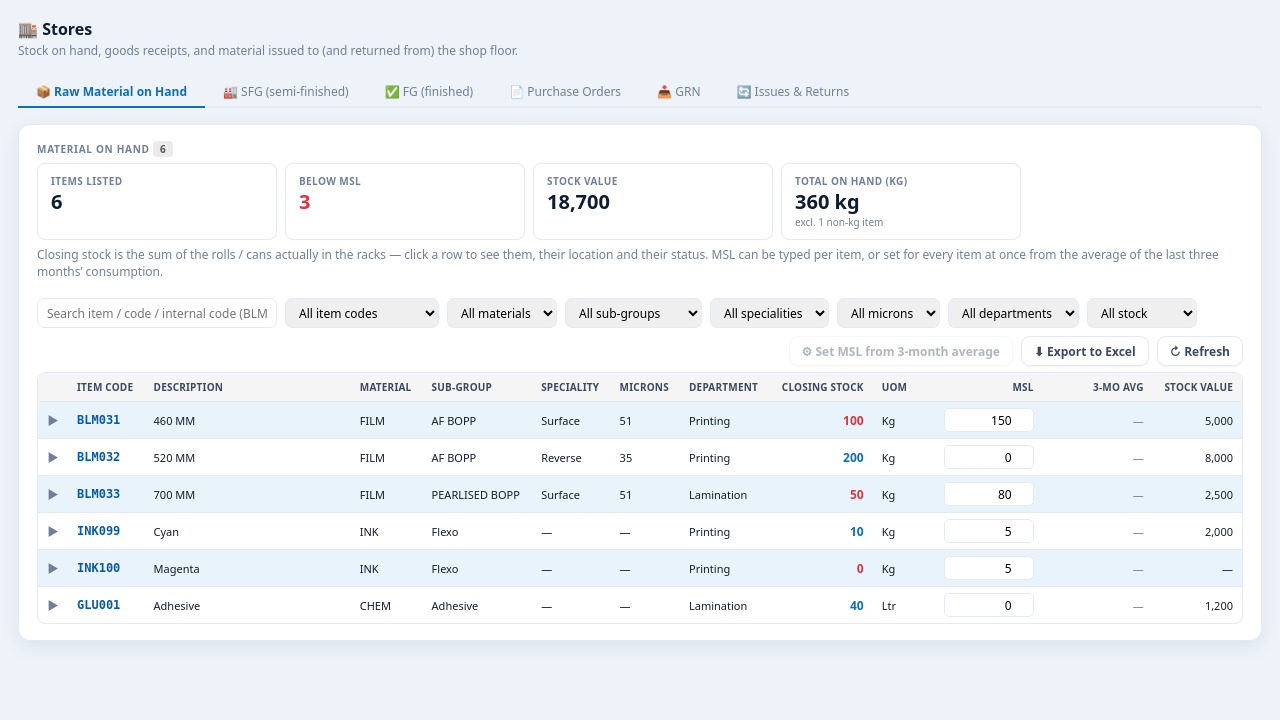
Material on Hand — filters, search and the figures above them › counts only the chosen disposition in the value, and drops items without it
Select "Rejected" in the dropdown named "Filter by status": (1142, 313) 1087,298 -> 1197,328
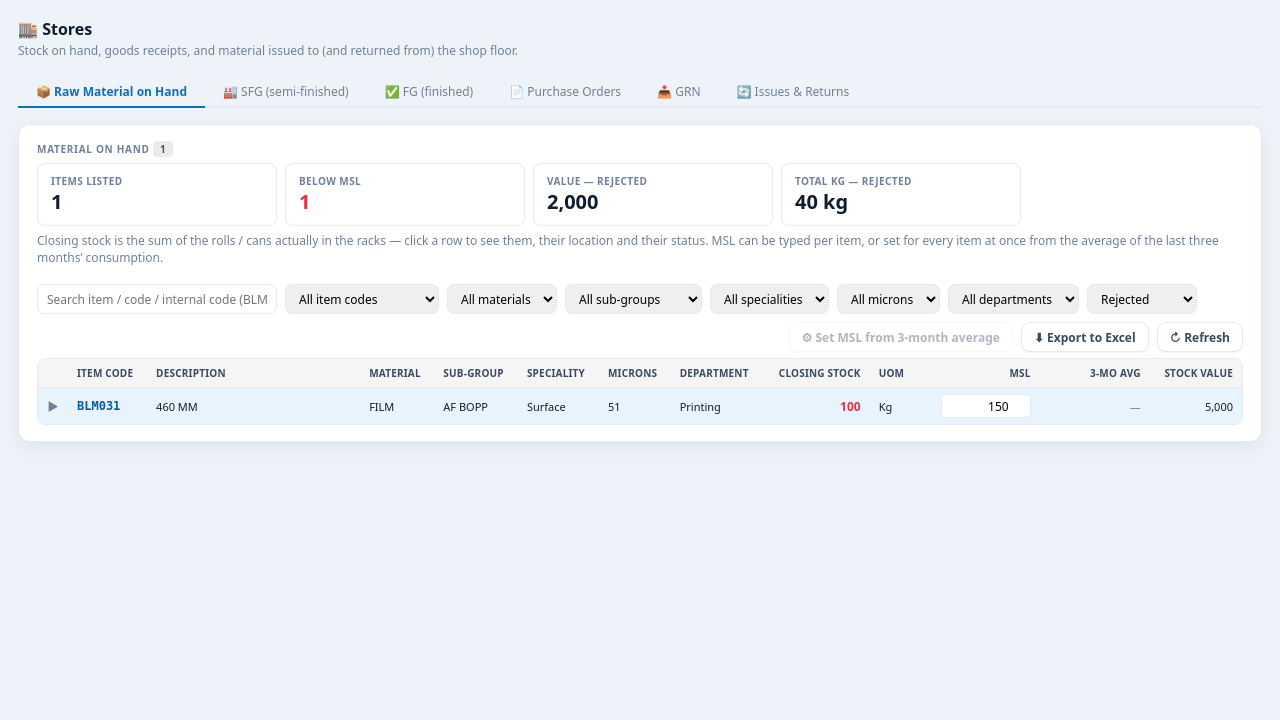
Result: the text "1" below "Items listed" is shown at 51,188 -> 62,215
Result: the text "2,000" is shown at 547,188 -> 598,215
